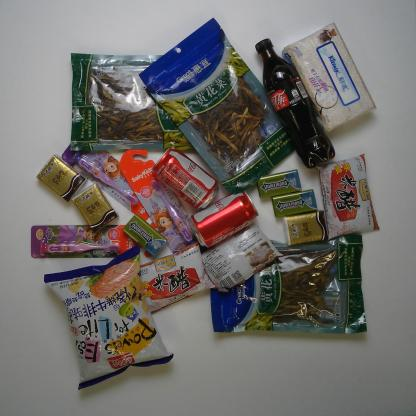Dried Food: (136, 16, 304, 194), (204, 232, 377, 338), (65, 42, 214, 155)
Drink: (254, 31, 338, 170), (150, 142, 221, 211), (187, 188, 262, 250)
Gum: (123, 212, 168, 258), (252, 166, 303, 199), (269, 188, 319, 218)
Personal Hygiene: (59, 138, 164, 232), (117, 146, 200, 256), (27, 216, 143, 260)
Puffed Food: (41, 244, 175, 394)
Seasoner: (133, 239, 215, 317), (314, 152, 381, 242), (200, 221, 279, 294)
Tissue: (280, 14, 380, 139), (35, 151, 89, 205), (70, 182, 121, 231), (280, 207, 331, 248)
